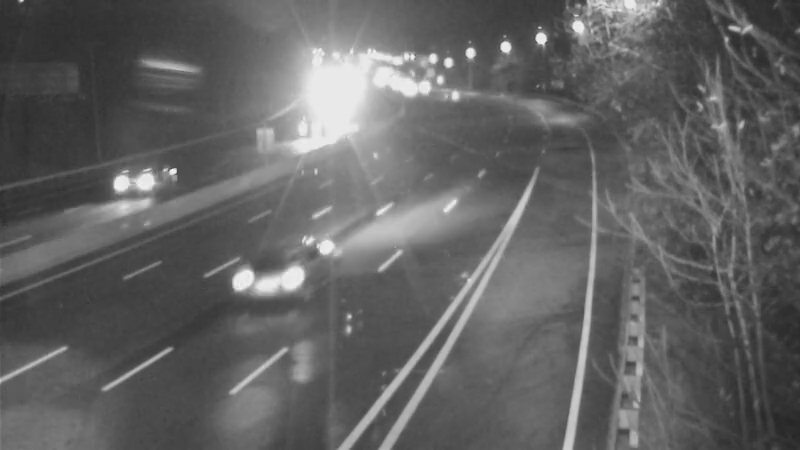vehicle: (220, 247, 300, 327), (95, 142, 175, 222), (421, 67, 471, 117), (285, 104, 335, 154)
